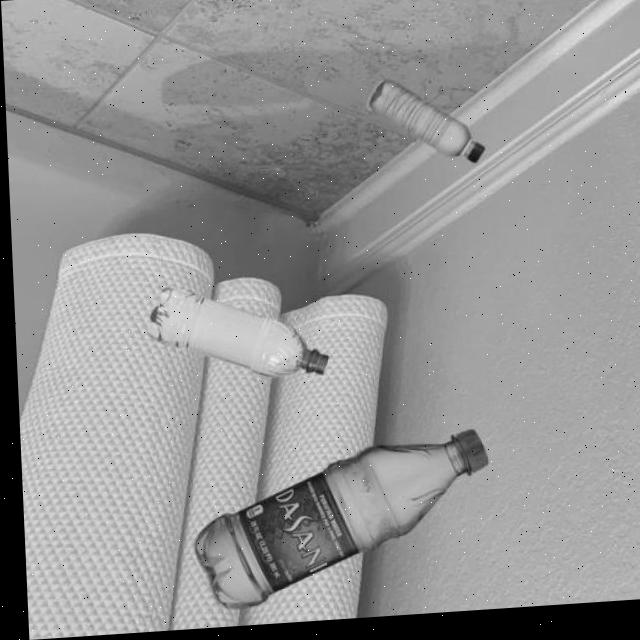bottle: (184, 432, 489, 616), (140, 277, 328, 391), (365, 79, 486, 176)
